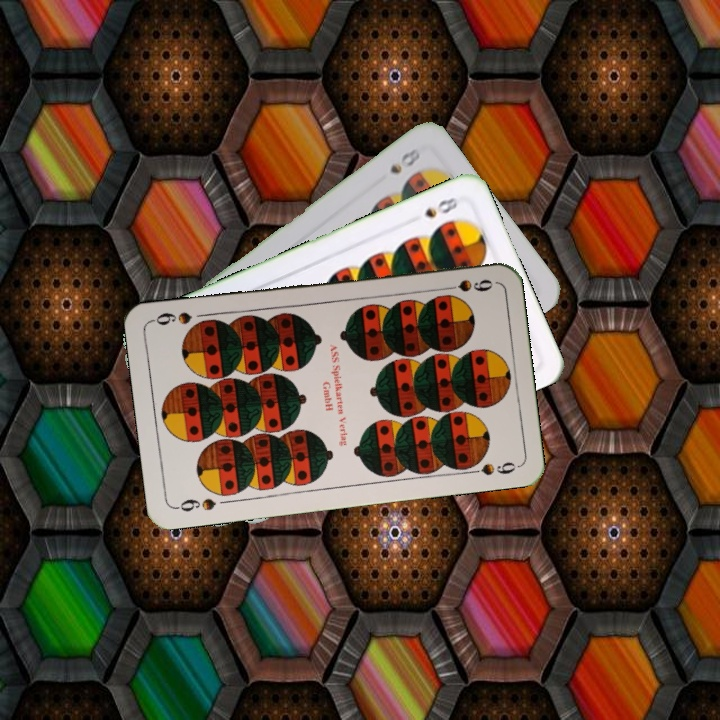S8: (420, 191, 464, 220), (385, 144, 423, 177)
S9: (437, 275, 496, 294), (171, 494, 218, 514)
